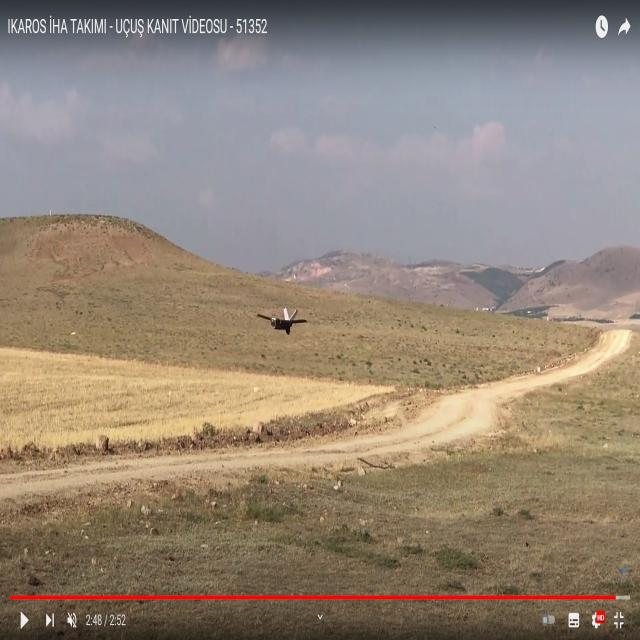iha: (257, 307, 307, 339)
